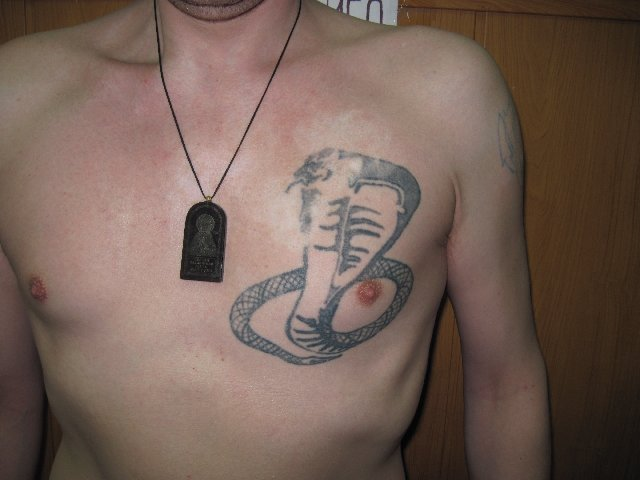tatu7_zmeya: (226, 143, 414, 381)
